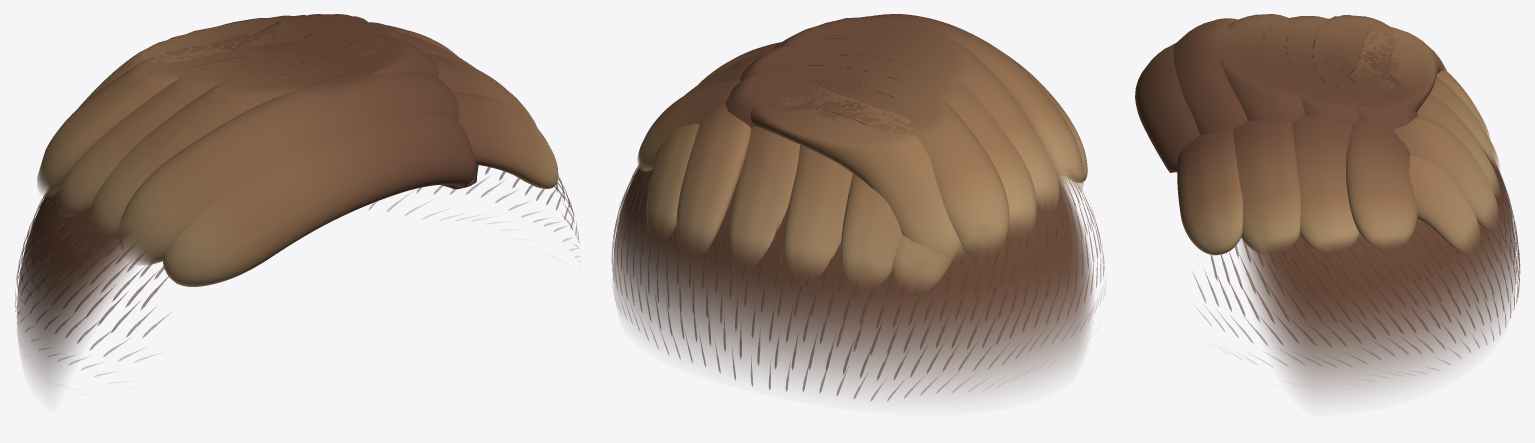
File: Masculine-taper-bucket259-hair-ombre.glb
3 renders of one model, left to right at view 1: azimuth 30°, elevation 25°; view 2: azimuth 150°, elevation 25°; view 3: azimuth 270°, elevation 25°, orthographic. The views are drawn at different scales.
Parts seen in each view (by area): view 1: 226 hair / Hair258 / sculpted side sweep 1, 226 hair / Hair258 / sculpted side sweep 0, 226 hair / Hair258 / smooth side fade, 226 hair / Hair258 / sculpted side sweep 2, 226 hair / Hair259 / directional fade marks214; view 2: 226 hair / Hair258 / smooth side fade, 226 hair / Hair258 / sculpted side sweep 0, 226 hair / Hair258 / sculpted side sweep 1, 226 hair / Hair258 / sculpted side sweep 2, 226 hair / Hair259 / directional fade marks214; view 3: 226 hair / Hair258 / smooth side fade, 226 hair / Hair258 / sculpted side sweep 0, 226 hair / Hair258 / sculpted side sweep 1, 226 hair / Hair258 / sculpted side sweep 2, 226 hair / Hair259 / directional fade marks214.
Boxes of the visible parts, left/top/right/bottom form: 226 hair / Hair258 / sculpted side sweep 1: left=57, top=21, right=558, bottom=286; 226 hair / Hair258 / sculpted side sweep 0: left=37, top=14, right=536, bottom=265; 226 hair / Hair258 / smooth side fade: left=17, top=41, right=558, bottom=389; 226 hair / Hair258 / sculpted side sweep 2: left=89, top=33, right=475, bottom=234; 226 hair / Hair259 / directional fade marks214: left=15, top=167, right=579, bottom=376; 226 hair / Hair258 / smooth side fade: left=613, top=74, right=1092, bottom=395; 226 hair / Hair258 / sculpted side sweep 0: left=676, top=14, right=1083, bottom=288; 226 hair / Hair258 / sculpted side sweep 1: left=637, top=38, right=1087, bottom=292; 226 hair / Hair258 / sculpted side sweep 2: left=646, top=15, right=1059, bottom=278; 226 hair / Hair259 / directional fade marks214: left=611, top=164, right=1104, bottom=401; 226 hair / Hair258 / smooth side fade: left=1240, top=56, right=1516, bottom=397; 226 hair / Hair258 / sculpted side sweep 0: left=1173, top=14, right=1498, bottom=254; 226 hair / Hair258 / sculpted side sweep 1: left=1135, top=16, right=1500, bottom=255; 226 hair / Hair258 / sculpted side sweep 2: left=1216, top=14, right=1499, bottom=255; 226 hair / Hair259 / directional fade marks214: left=1193, top=159, right=1520, bottom=373.
Size of the model in its own units: 0.9743 by 0.6123 by 0.7585.
